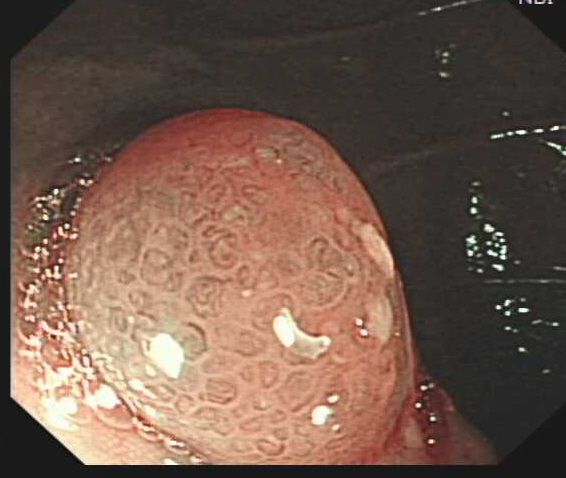adenoma: (59, 102, 419, 464)
